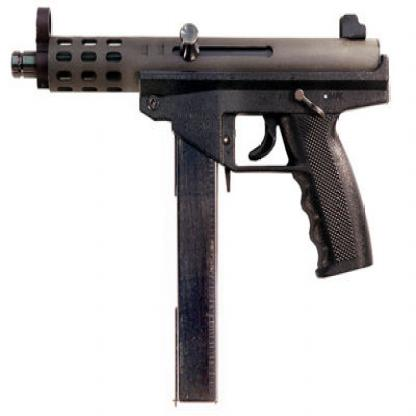Guns: (6, 4, 391, 405)
